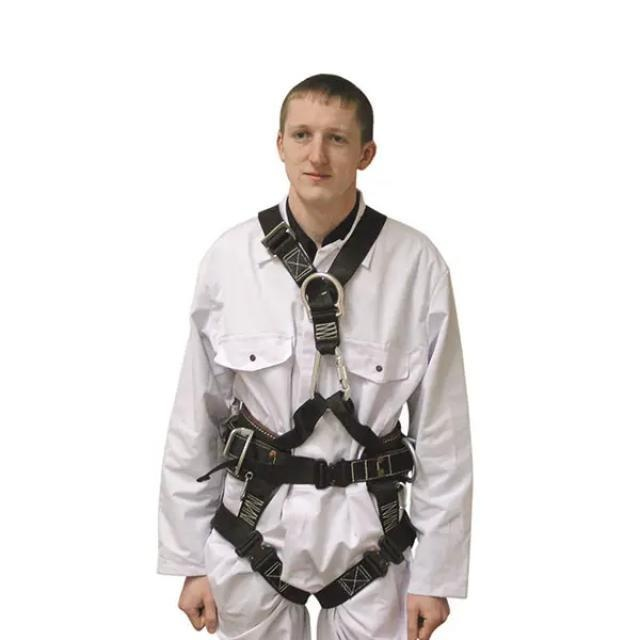Arnes_seguridad: (194, 197, 430, 610)
